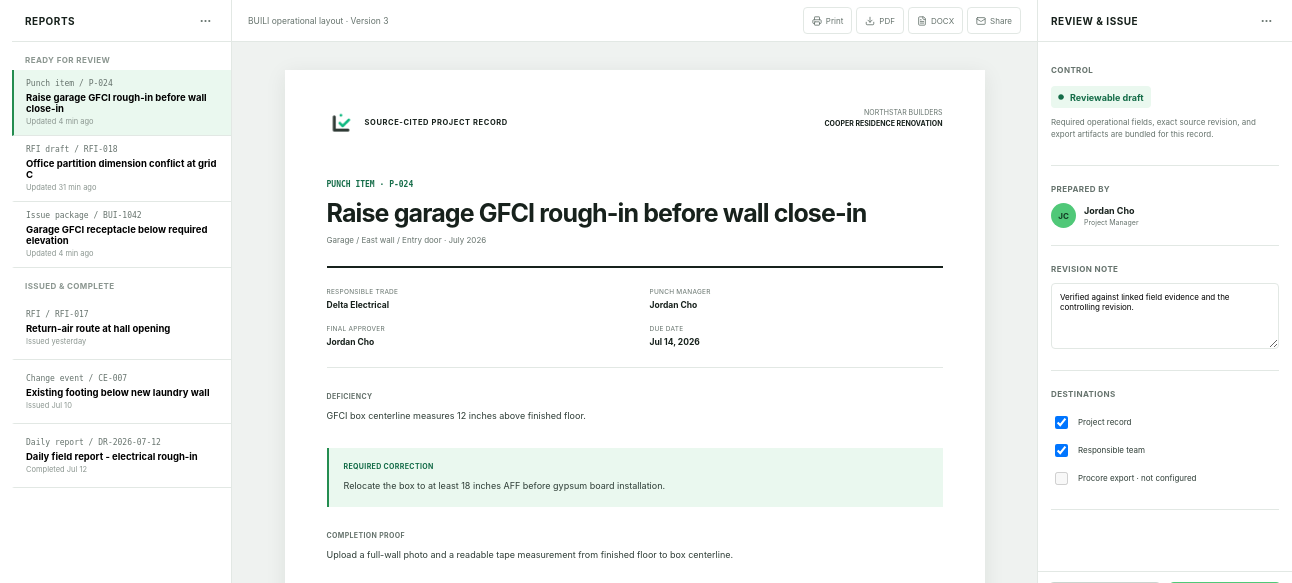
Test: demo report workspace › switches reports and exposes bundled PDF and DOCX artifacts
Click the button "RFI draft / RFI-018".
click(122, 169)  # box [12, 136, 231, 202]
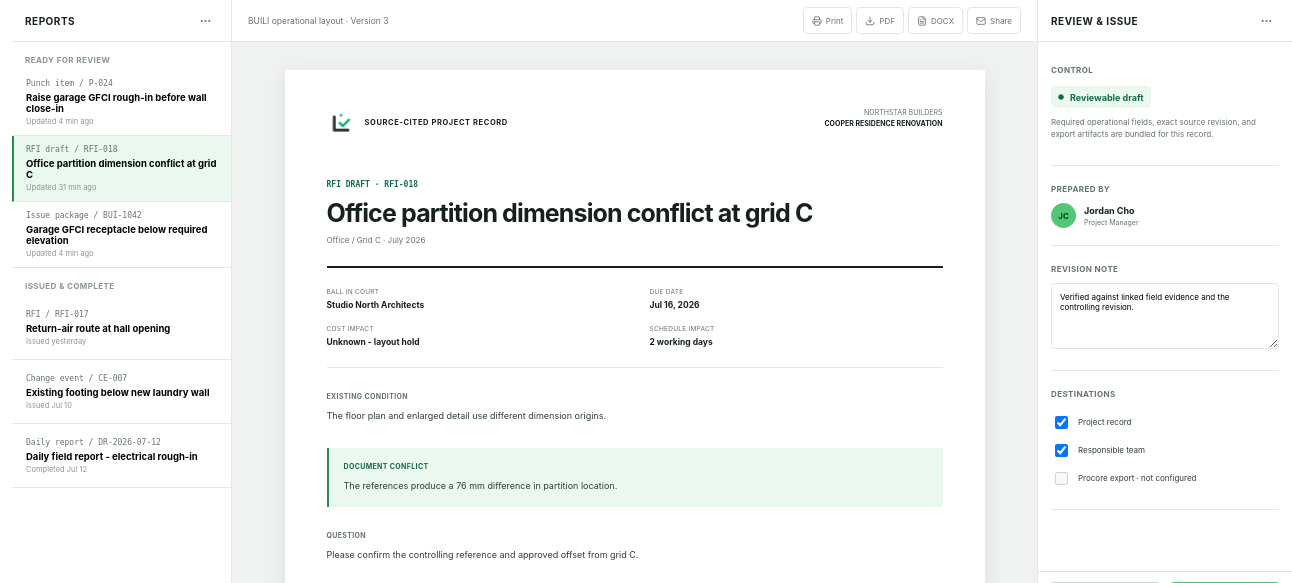
Result: the heading "Office partition dimension conflict at grid C" is shown at [326, 199, 866, 228]
Result: the text "Please confirm the controlling reference and approved offset from grid C." is shown at [326, 549, 638, 560]
